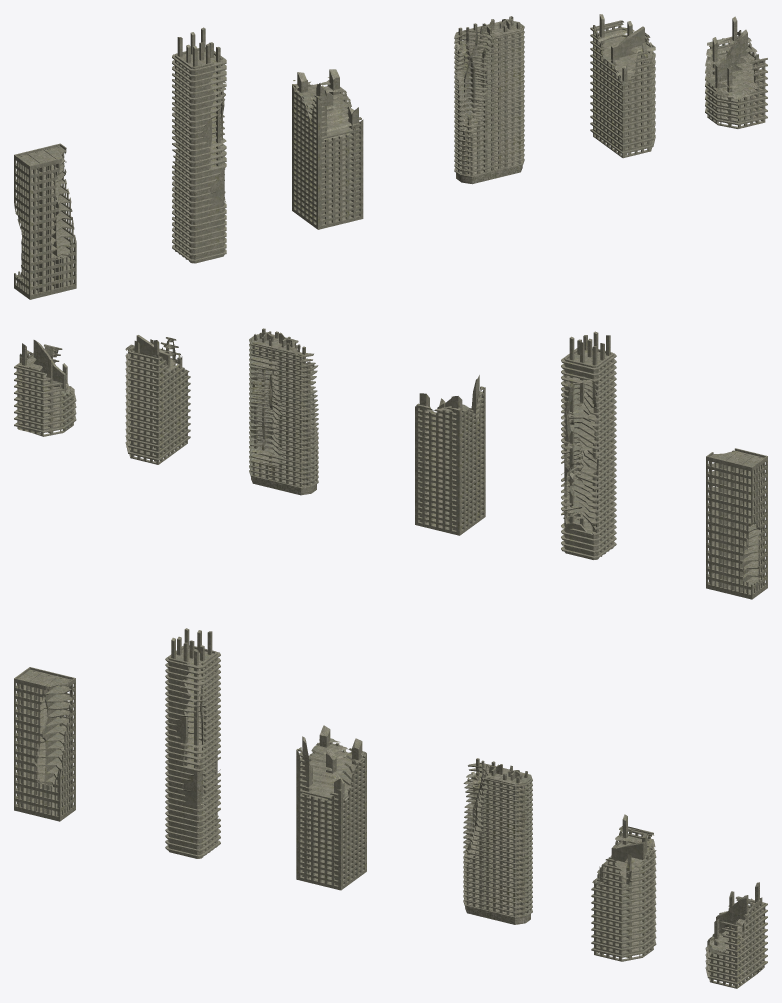
Rendered from ruined_buildings_pack_-_free_download.glb.
3 renders of one model, top to bottom at view 1: azimuth 30°, elevation 25°; view 2: azimuth 150°, elevation 25°; view 3: azimuth 330°, elevation 25°, orthographic.
Parts seen in each view (by area): view 1: Cube.005_2, Plane.003_5, Cube.014_4, Cube.003_1, Cube.002_0, Cube.009_3; view 2: Cube.005_2, Plane.003_5, Cube.014_4, Cube.003_1, Cube.002_0, Cube.009_3; view 3: Cube.005_2, Plane.003_5, Cube.014_4, Cube.003_1, Cube.002_0, Cube.009_3.
Boxes of the visible parts, left/top/right/bottom form: Cube.005_2: left=172, top=27, right=226, bottom=263; Plane.003_5: left=454, top=16, right=524, bottom=184; Cube.014_4: left=292, top=69, right=363, bottom=229; Cube.003_1: left=14, top=143, right=76, bottom=299; Cube.002_0: left=590, top=14, right=655, bottom=158; Cube.009_3: left=705, top=16, right=767, bottom=128; Cube.005_2: left=561, top=331, right=616, bottom=559; Plane.003_5: left=249, top=328, right=318, bottom=495; Cube.014_4: left=415, top=375, right=485, bottom=535; Cube.003_1: left=706, top=448, right=767, bottom=599; Cube.002_0: left=125, top=335, right=190, bottom=464; Cube.009_3: left=14, top=340, right=76, bottom=436; Cube.005_2: left=165, top=628, right=220, bottom=858; Plane.003_5: left=463, top=758, right=532, bottom=924; Cube.014_4: left=296, top=725, right=366, bottom=890; Cube.003_1: left=14, top=667, right=75, bottom=821; Cube.002_0: left=591, top=814, right=656, bottom=961; Cube.009_3: left=705, top=882, right=767, bottom=988.
Size of the model in its own units: 49.5 by 13.98 by 3.88.
1 material, 1 textured.
